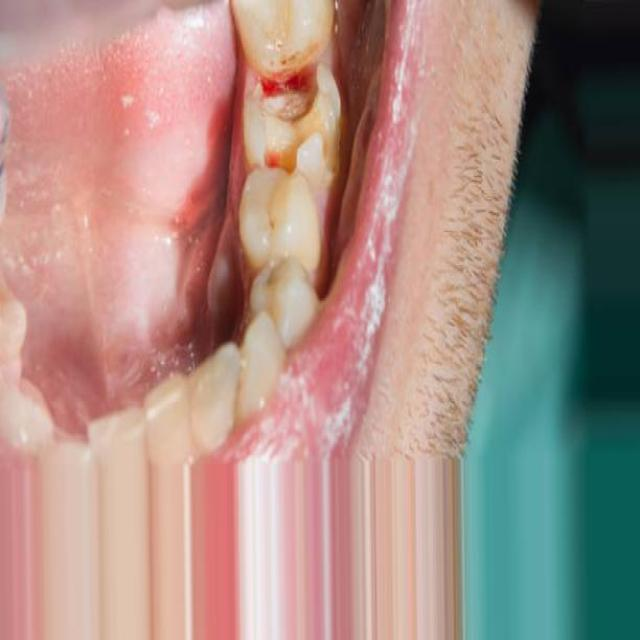caries: (233, 24, 340, 141)
